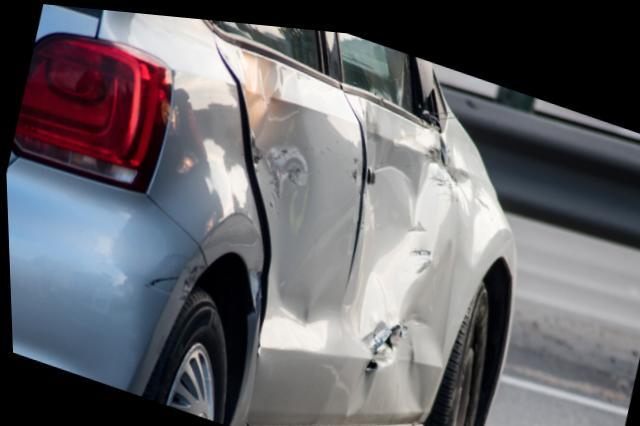crack: (357, 319, 392, 370)
dent: (238, 51, 362, 343), (347, 92, 460, 410)
scratch: (141, 249, 203, 299)
